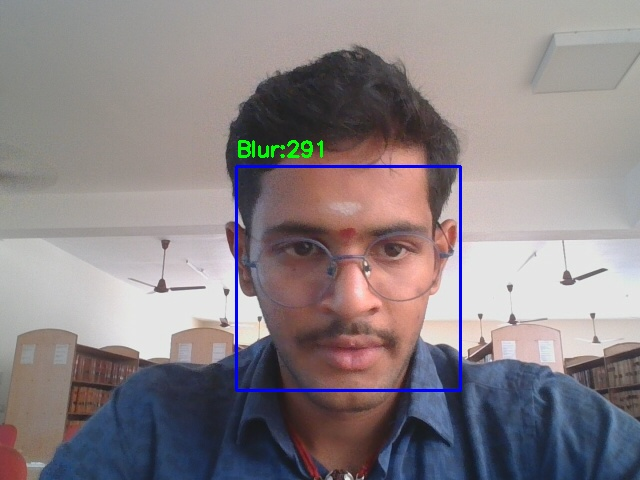real: (236, 166, 460, 390)
